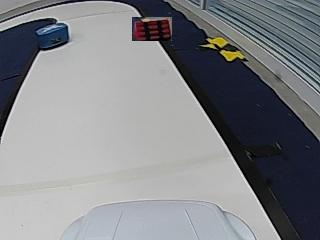prop: (36, 23, 69, 50)
